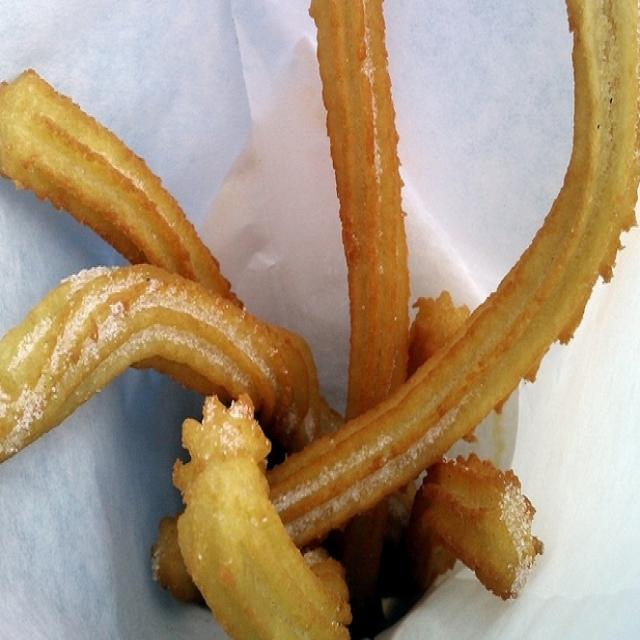炸货点心: (5, 18, 619, 594)
